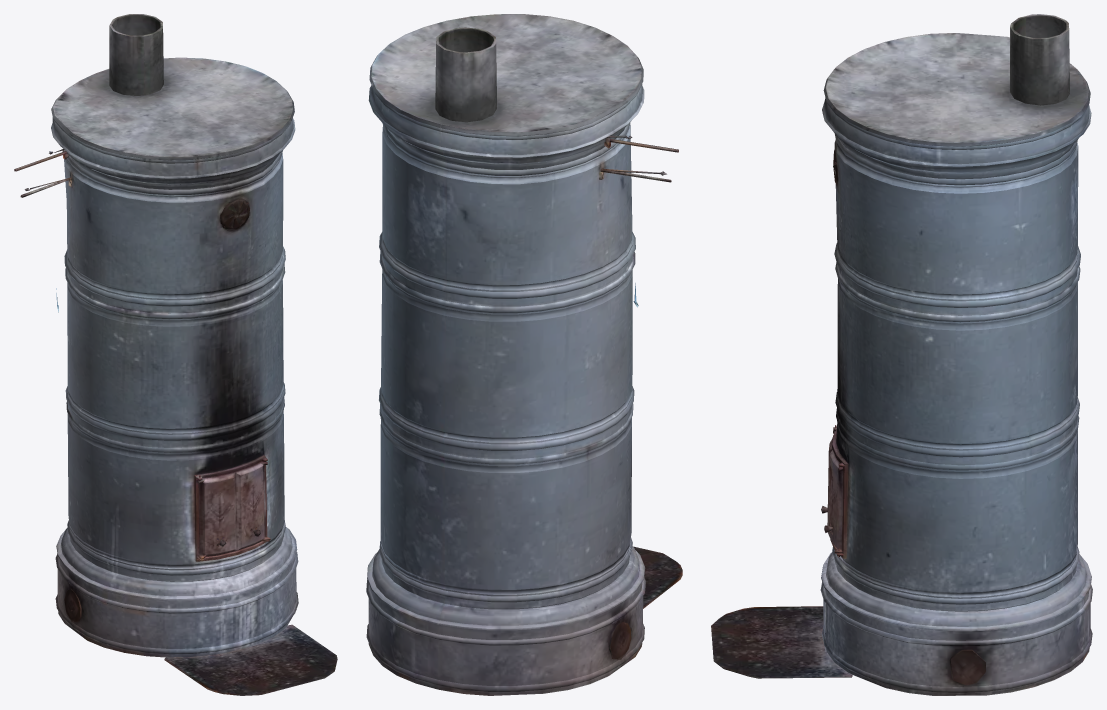
Rendered from scandinavian_masonry_heater.glb.
The picture shows the model from 3 angles, left to right: view 1: azimuth 30°, elevation 25°; view 2: azimuth 150°, elevation 25°; view 3: azimuth 270°, elevation 25°; orthographic projection. The views are drawn at different scales.
Visible parts, largest first — view 1: scandinavian_masonry_heater; view 2: scandinavian_masonry_heater; view 3: scandinavian_masonry_heater.
Part boxes in pixels (bbox=[...]): scandinavian_masonry_heater: bbox=[14, 14, 337, 695]; scandinavian_masonry_heater: bbox=[366, 14, 682, 695]; scandinavian_masonry_heater: bbox=[711, 14, 1092, 695].
Bounding box in the file's own units: 1.17 × 2.36 × 1.33.
1 material, 1 textured.
